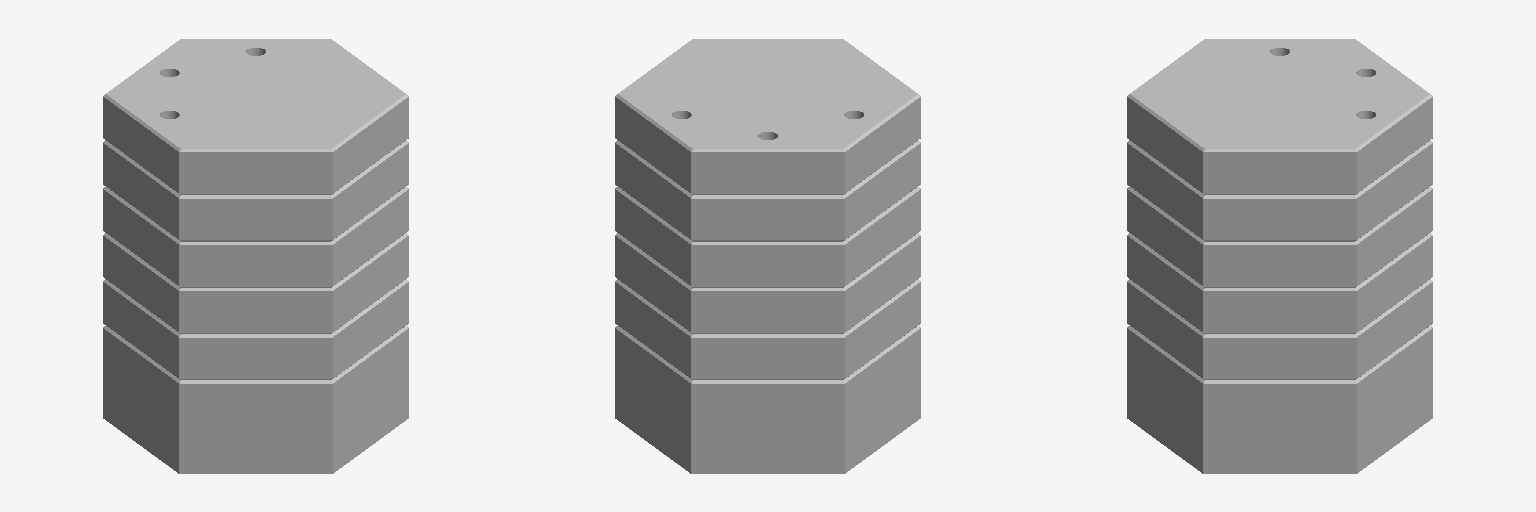
Rendered from lvl6A.obj.
3 renders of one model, left to right at view 1: azimuth 30°, elevation 25°; view 2: azimuth 150°, elevation 25°; view 3: azimuth 270°, elevation 25°, orthographic.
Visible parts, largest first — view 1: Lvl6A-3_(Mono-NoMags); view 2: Lvl6A-3_(Mono-NoMags); view 3: Lvl6A-3_(Mono-NoMags).
Part boxes in pixels (left/top/right/bottom): Lvl6A-3_(Mono-NoMags): left=103, top=39, right=408, bottom=473; Lvl6A-3_(Mono-NoMags): left=615, top=39, right=920, bottom=473; Lvl6A-3_(Mono-NoMags): left=1127, top=39, right=1432, bottom=473.
Bounding box in the file's own units: 3.13 × 4.22 × 3.62.